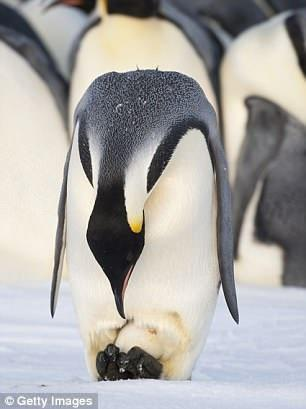emporer: (34, 60, 255, 399)
